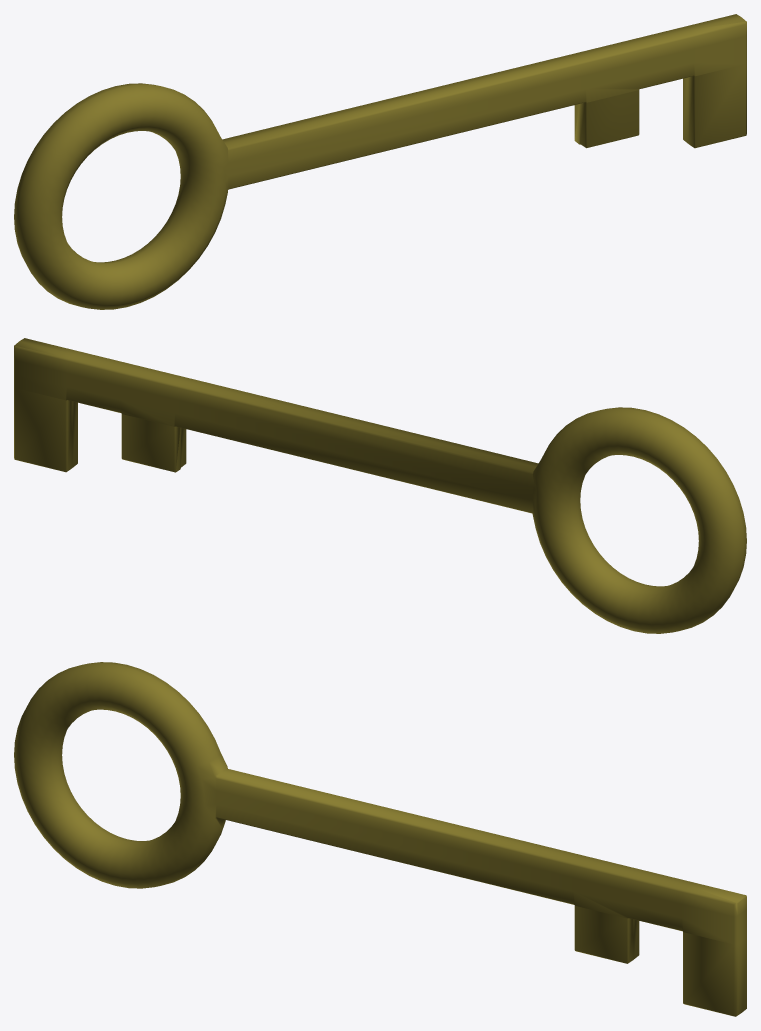
File: Key.fbx
The picture shows the model from 3 angles, top to bottom: view 1: azimuth 30°, elevation 25°; view 2: azimuth 150°, elevation 25°; view 3: azimuth 330°, elevation 25°; orthographic projection.
Parts seen in each view (by area): view 1: Torus; view 2: Torus; view 3: Torus.
Boxes of the visible parts, box(x1,y1,x2,y2) form: Torus: box(14, 14, 746, 309); Torus: box(14, 338, 746, 633); Torus: box(14, 662, 746, 1016).
Bounding box in the file's own units: 870 × 250 × 50.
